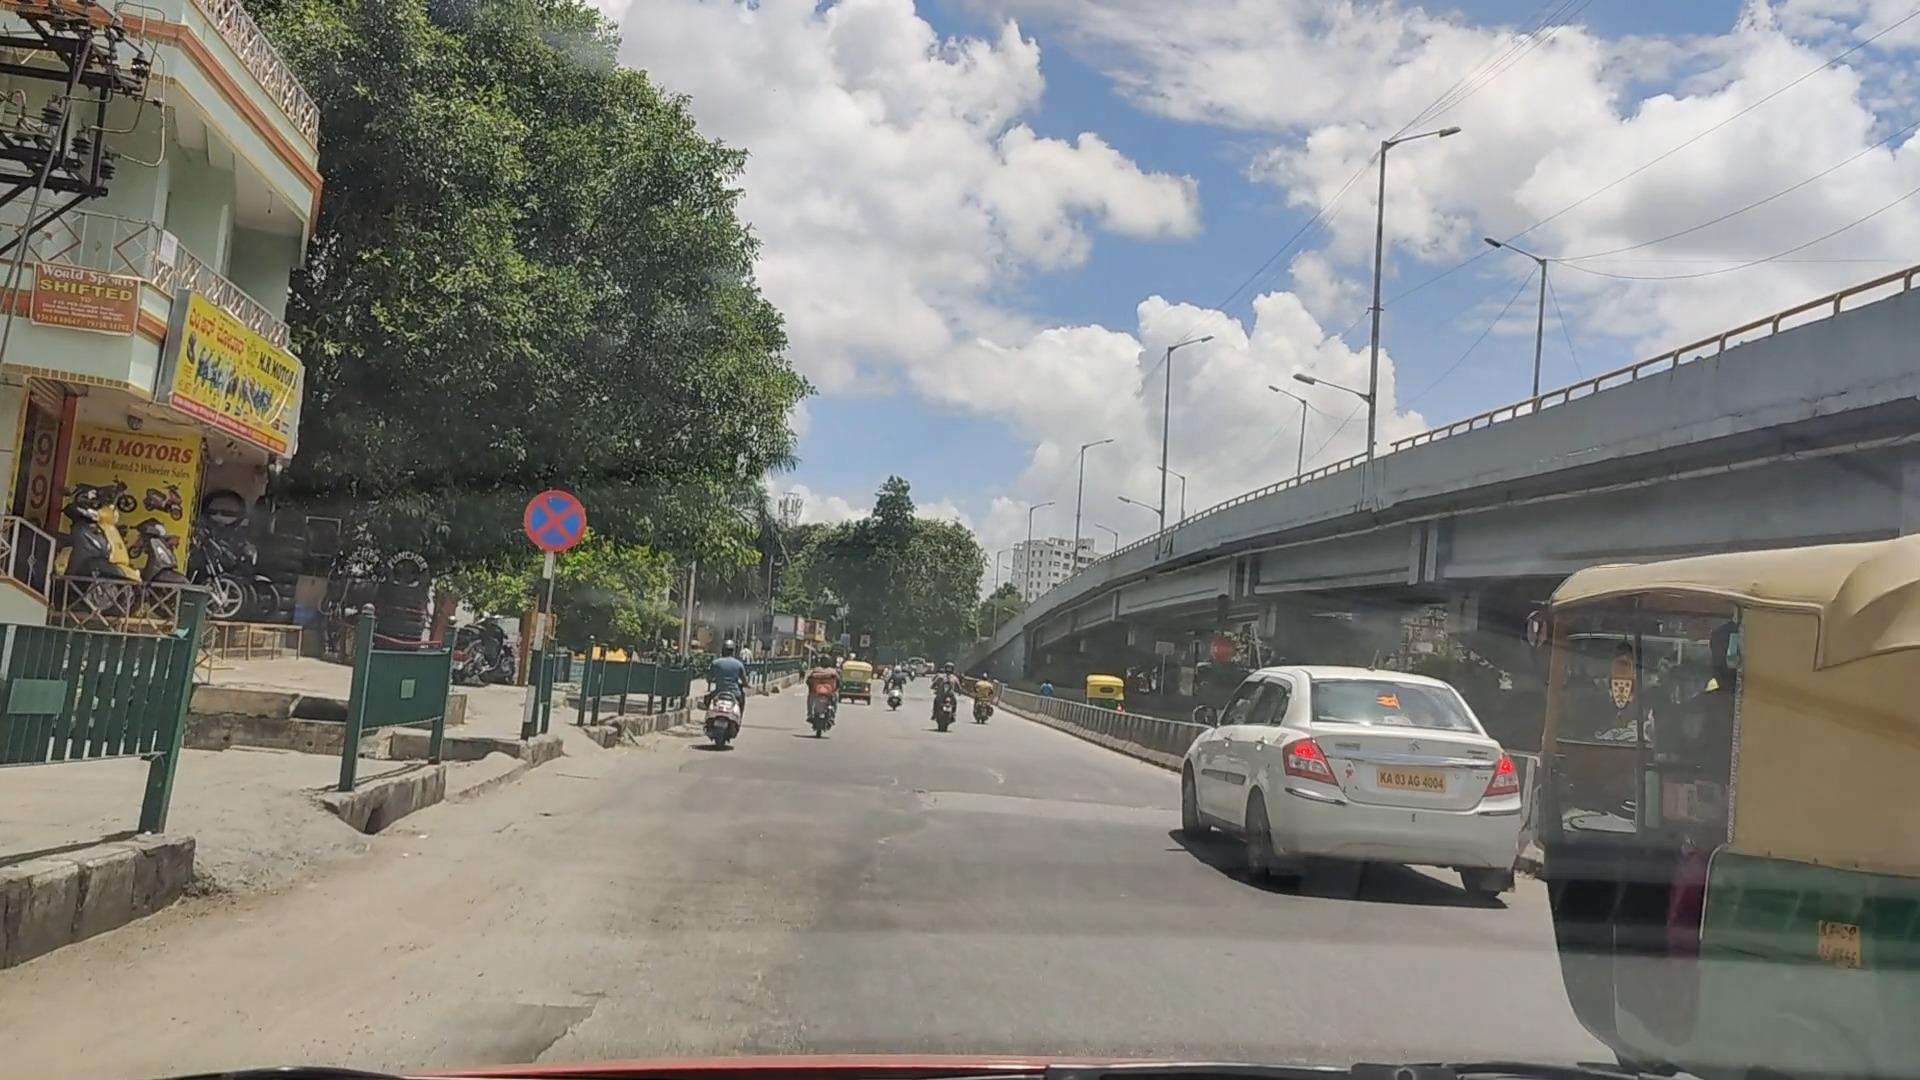LMV: (1171, 658, 1527, 901), (705, 640, 742, 746), (800, 650, 837, 744), (927, 661, 959, 735)
RoadDamages: (897, 786, 1149, 818), (981, 758, 1015, 783), (882, 766, 898, 786)
